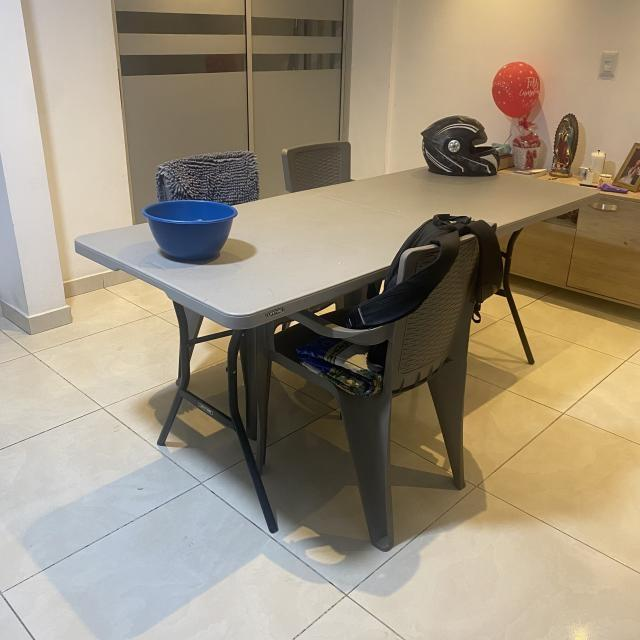obstacle: (67, 115, 588, 447), (256, 218, 497, 555)
